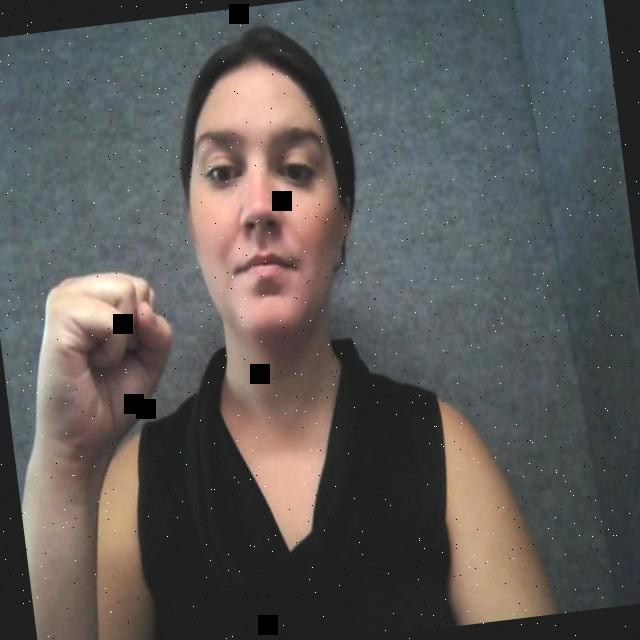Rock: (14, 246, 203, 463)
